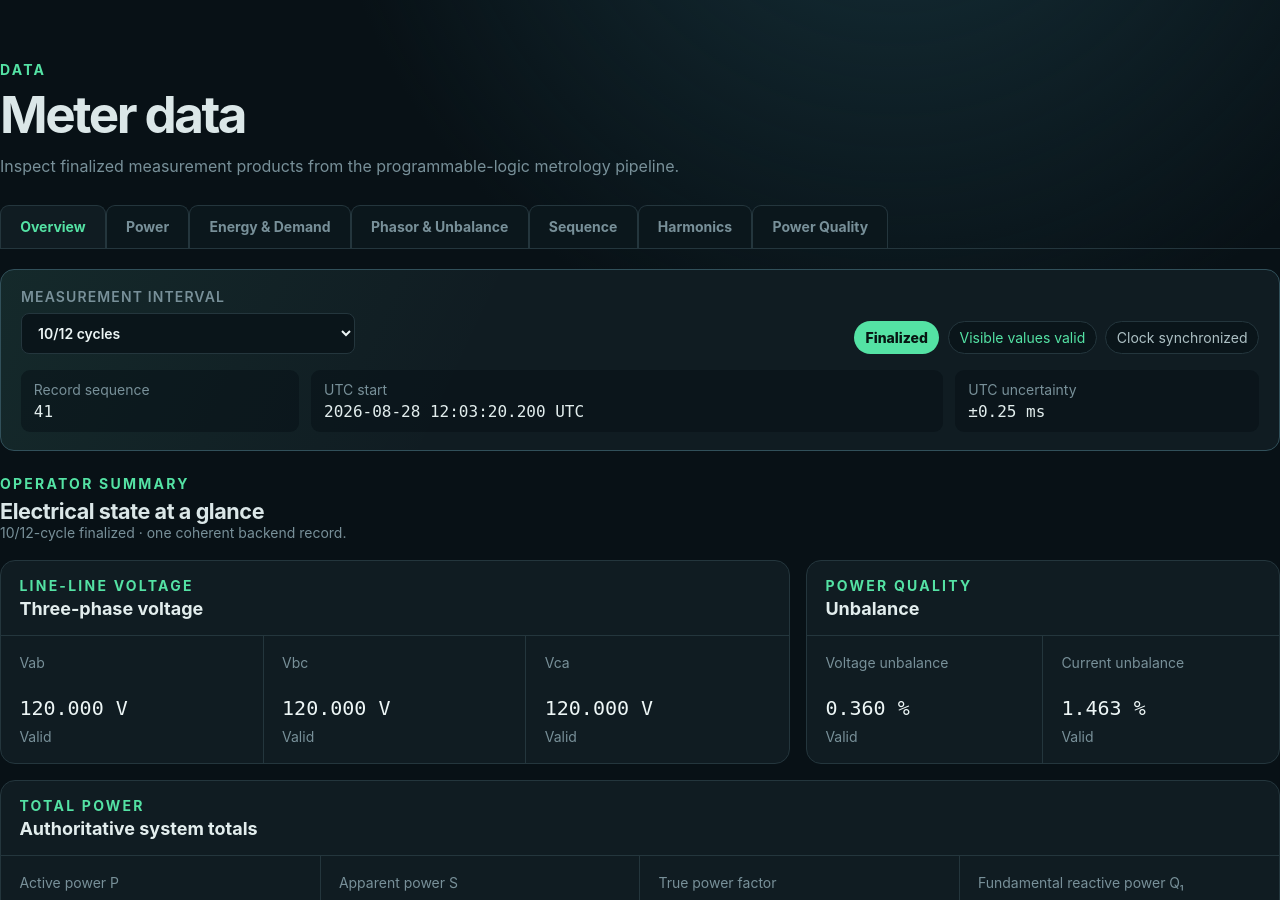
it: Reading page coherent record behavior › presents ten-second frequency as an operator Data interval
Check: the heading "Meter data" is shown, box [0,83,245,145]
Select "10 seconds" in the dropdown labelled "Measurement interval" at (188,333), box [21,313,355,354]
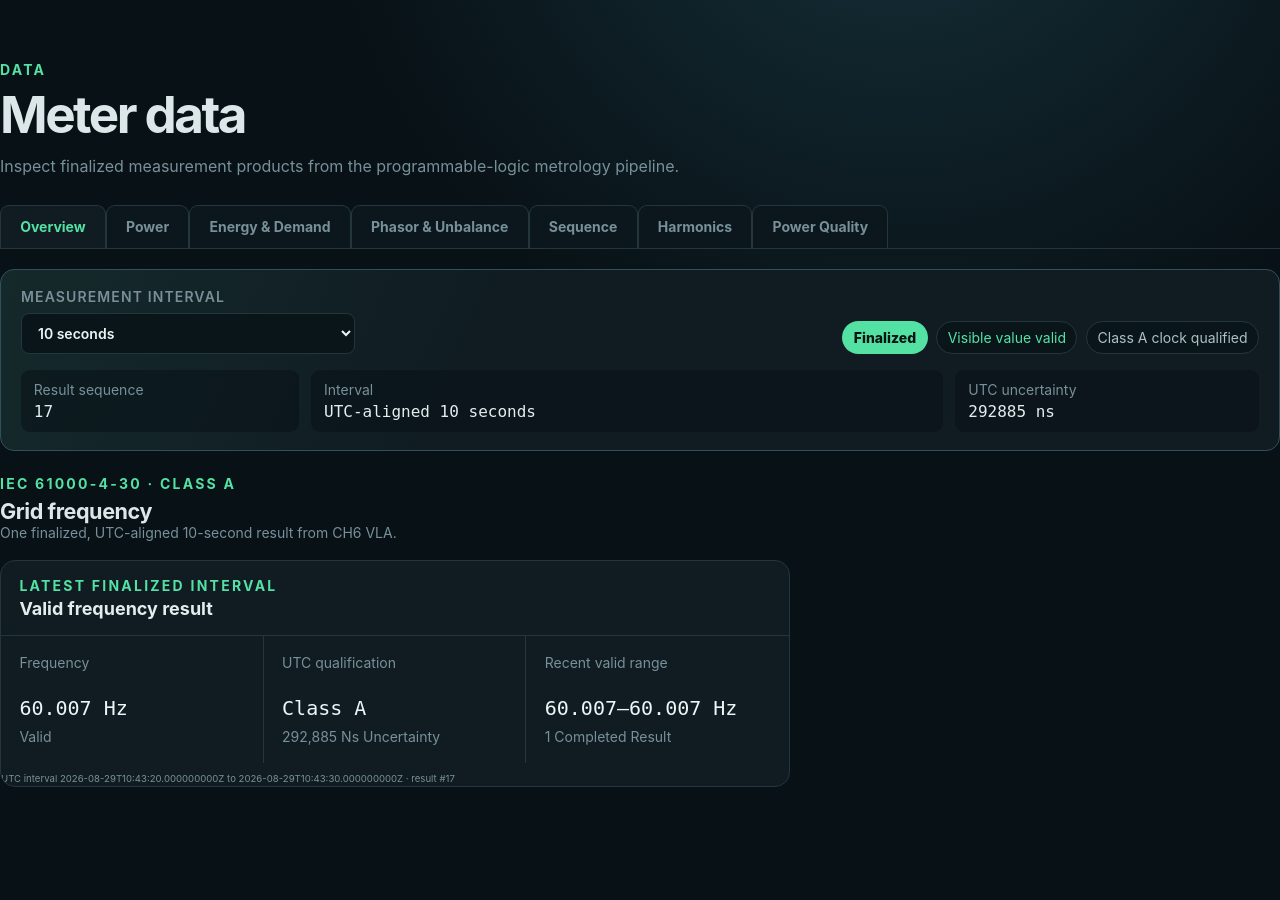
Check: the heading "Grid frequency" is shown, box [0,498,152,524]
Check: the text "60.007 Hz" is shown, box [19,696,128,720]
Check: the text "Class A clock qualified" is shown, box [1086,321,1259,354]
